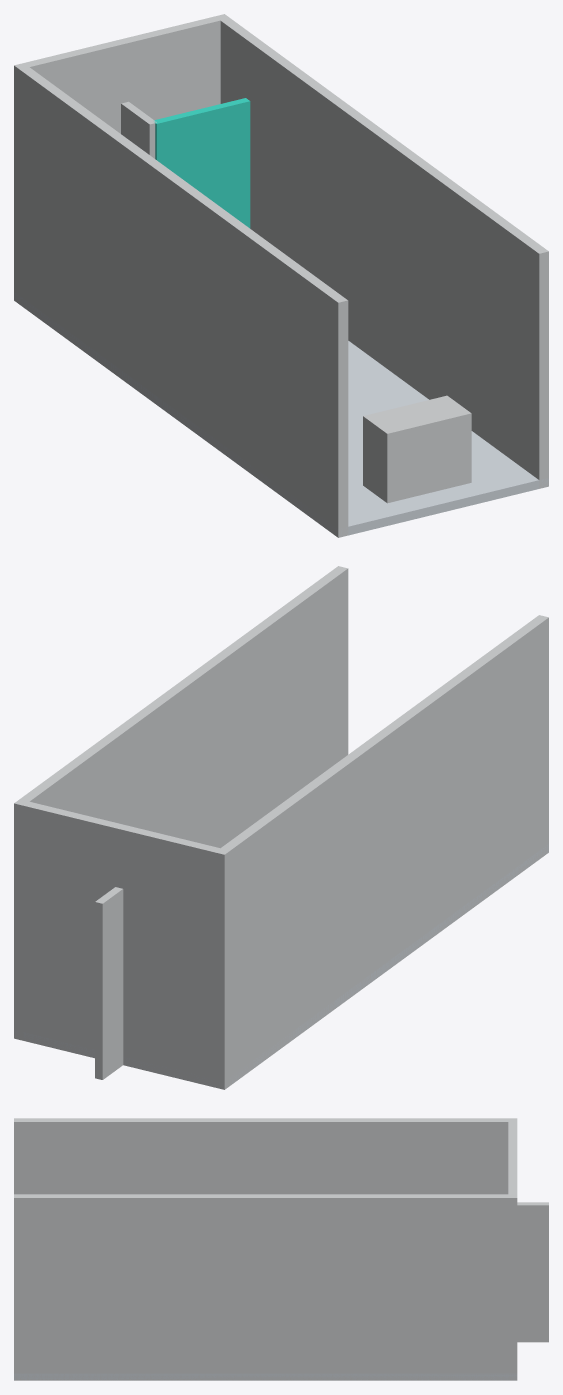
The picture shows the model from 3 angles, top to bottom: view 1: azimuth 30°, elevation 25°; view 2: azimuth 150°, elevation 25°; view 3: azimuth 270°, elevation 25°; orthographic projection. The views are drawn at different scales.
Visible parts, largest first — view 1: Exhibition Booth Concept; view 2: Exhibition Booth Concept; view 3: Exhibition Booth Concept.
Boxes of the visible parts, left/top/right/bottom form: Exhibition Booth Concept: left=14, top=14, right=548, bottom=537; Exhibition Booth Concept: left=14, top=566, right=548, bottom=1089; Exhibition Booth Concept: left=14, top=1118, right=548, bottom=1380.
Size of the model in its own units: 3 by 3.2 by 8.51.
